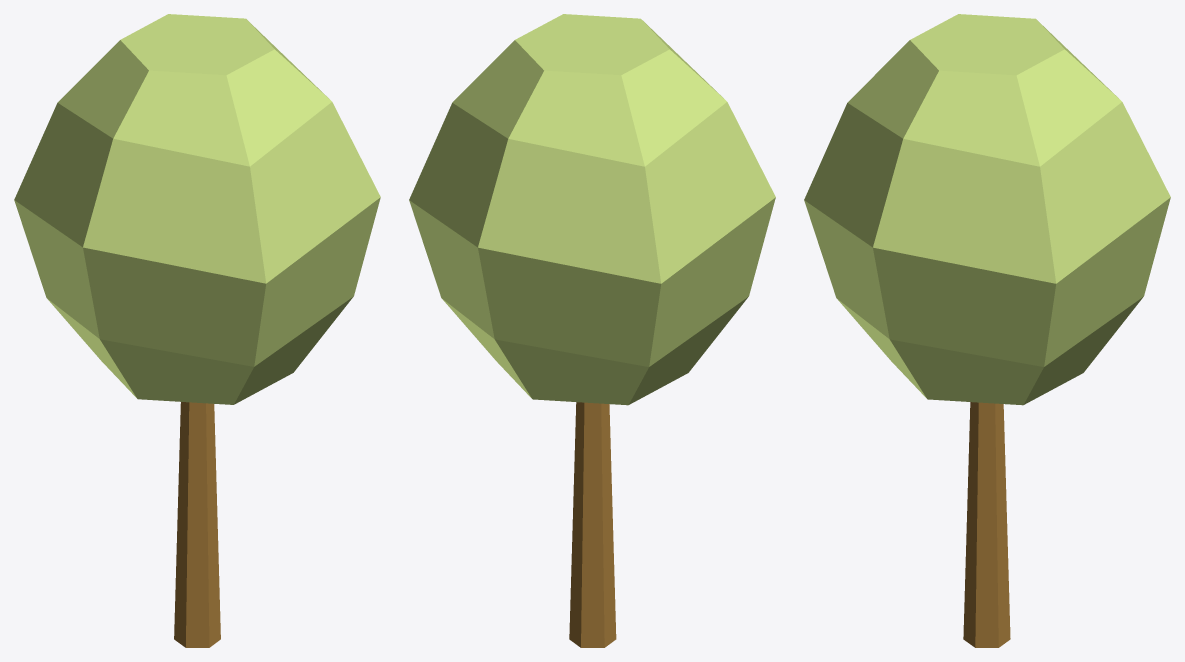
File: Tree2.glb
3 renders of one model, left to right at view 1: azimuth 30°, elevation 25°; view 2: azimuth 150°, elevation 25°; view 3: azimuth 270°, elevation 25°, orthographic.
Visible parts, largest first — view 1: PlantFinal._m_1.001; view 2: PlantFinal._m_1.001; view 3: PlantFinal._m_1.001.
Part boxes in pixels (x1=…): PlantFinal._m_1.001: x1=14, y1=14, x2=380, y2=647; PlantFinal._m_1.001: x1=409, y1=14, x2=775, y2=647; PlantFinal._m_1.001: x1=804, y1=14, x2=1170, y2=647.
Bounding box in the file's own units: 6.71 × 12.79 × 7.15.
